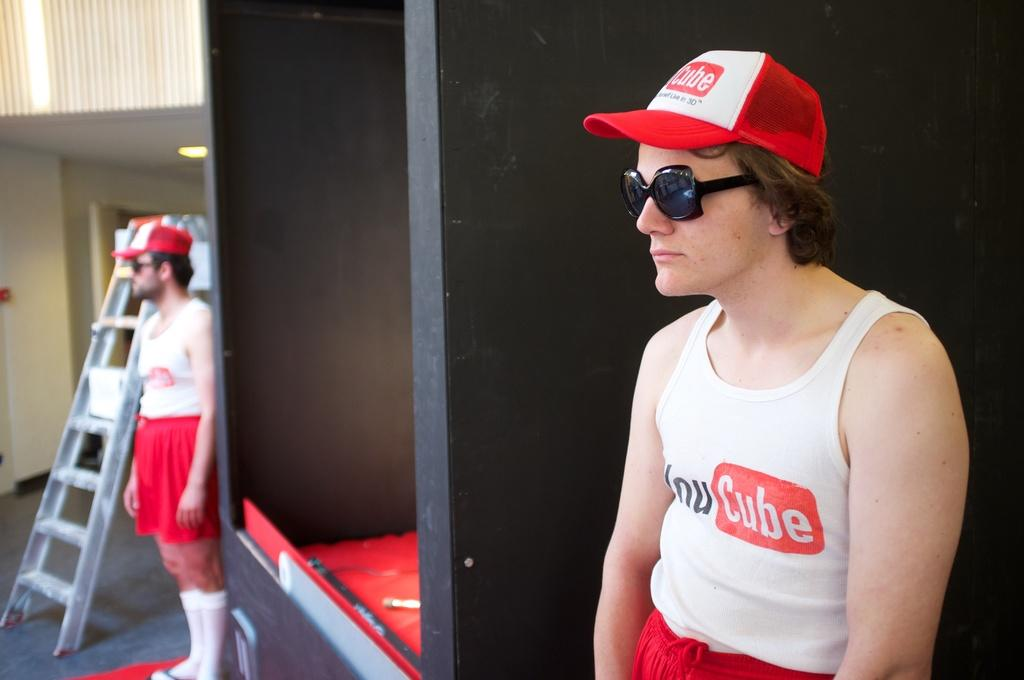Hat: (582, 50, 818, 176), (110, 222, 192, 258)
